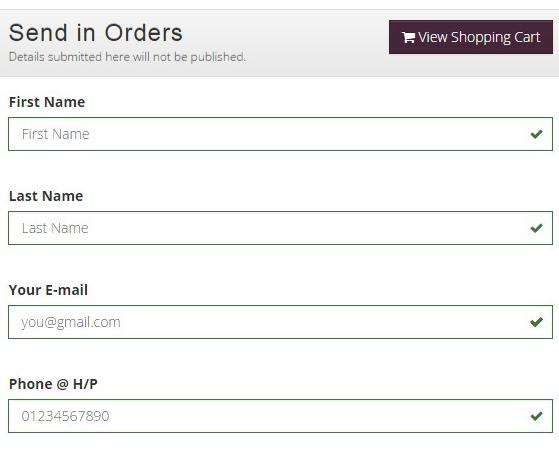button: (385, 16, 553, 56)
field: (5, 302, 554, 341), (7, 397, 554, 436), (8, 208, 556, 246), (7, 114, 554, 152)
